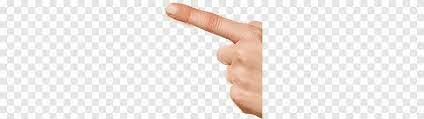Point-Left: (167, 0, 263, 118)
